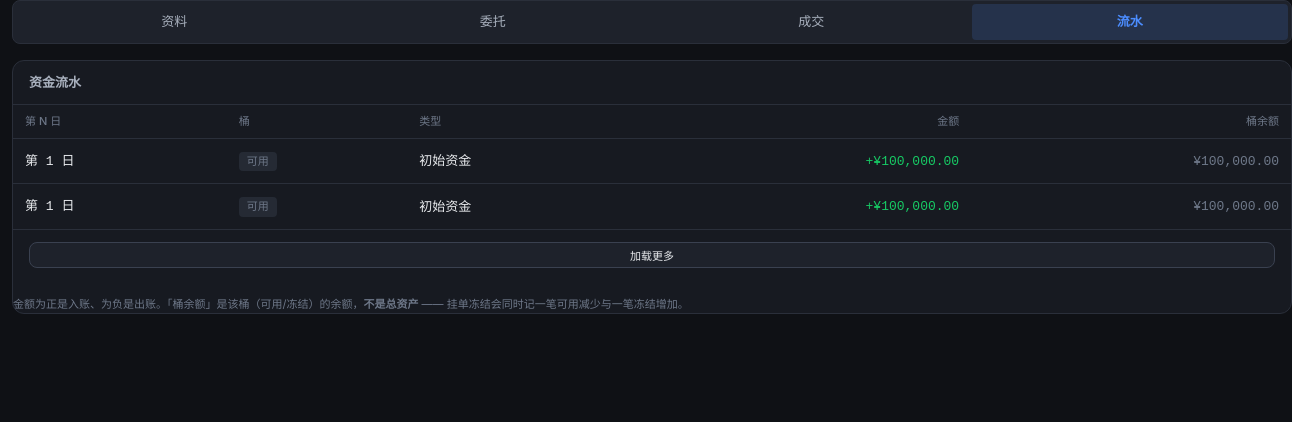
Test case: 我的 · 分页表 › ⚠️「加载更多」用 nextBefore 取下一页，且相邻页重叠条被去重
Expected: the element with test id "paged-table" is shown, [13,105,1291,280]
Click the button with test id "paged-more" at (652, 255), box [29,242,1275,268]
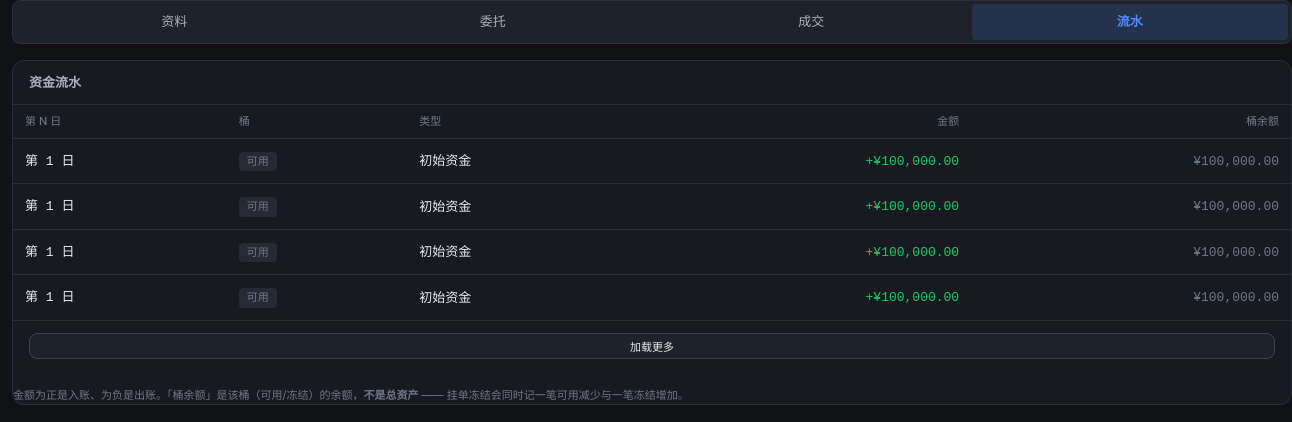
Result: the number of rows with test id "ledger-row" is 4 at [13,138,1291,184]; [13,184,1291,229]; [13,229,1291,275]; [13,275,1291,320]
